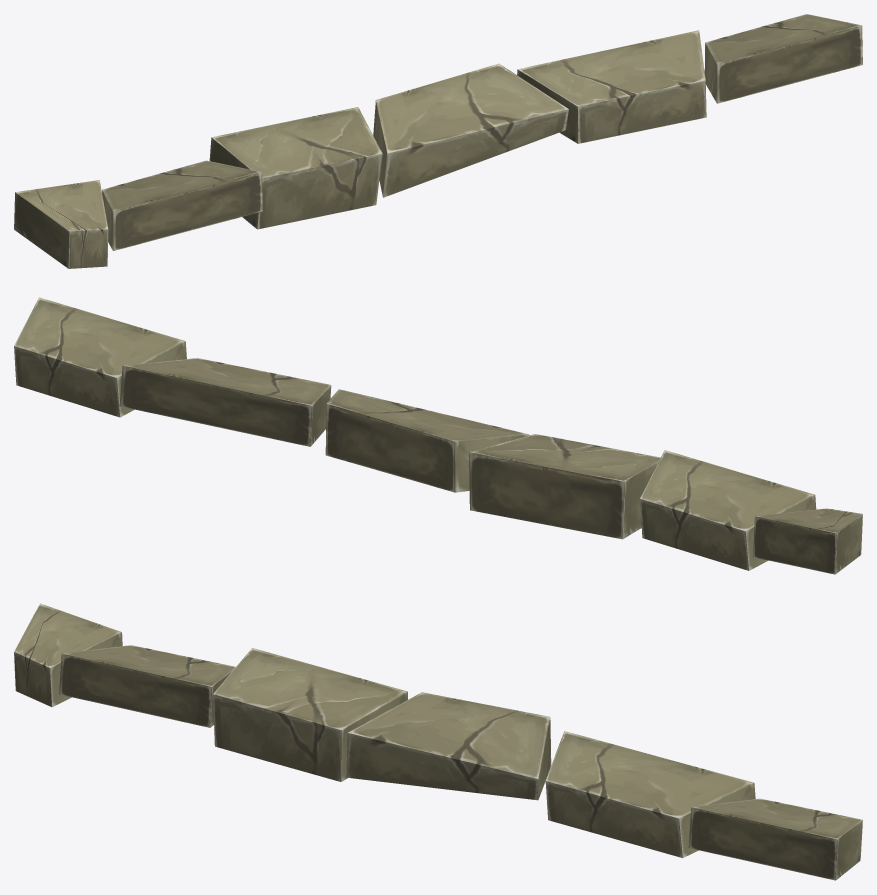
File: groundrocks1.fbx
3 renders of one model, top to bottom at view 1: azimuth 30°, elevation 25°; view 2: azimuth 150°, elevation 25°; view 3: azimuth 330°, elevation 25°, orthographic. The views are drawn at different scales.
Parts seen in each view (by area): view 1: groundrocks3; view 2: groundrocks3; view 3: groundrocks3.
Part boxes in pixels (<box>): groundrocks3: <box>14,14,862,268</box>; groundrocks3: <box>14,297,862,574</box>; groundrocks3: <box>14,603,862,880</box>.
Size of the model in its own units: 2.02 by 0.1768 by 0.2177.
